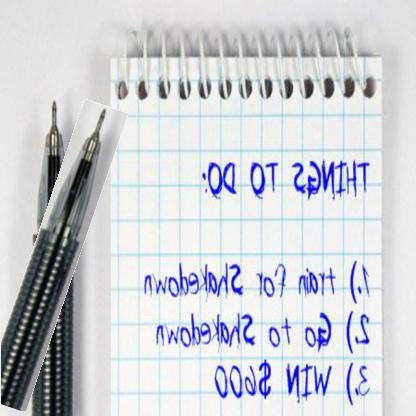Pen: (7, 99, 103, 413)
